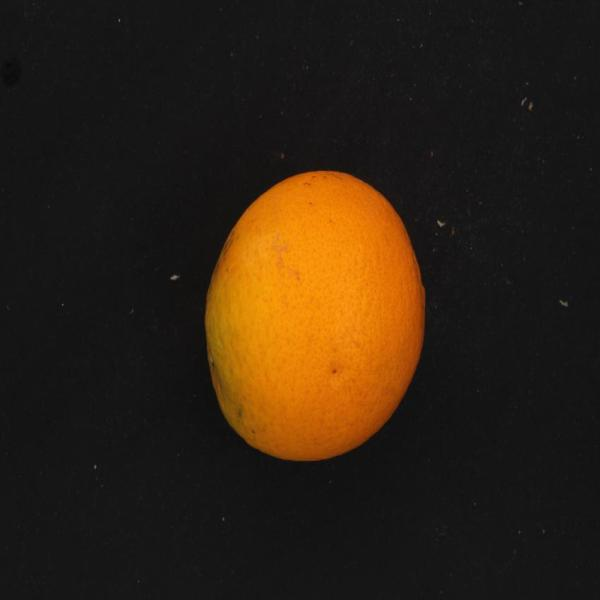Sana: (195, 164, 430, 485)
